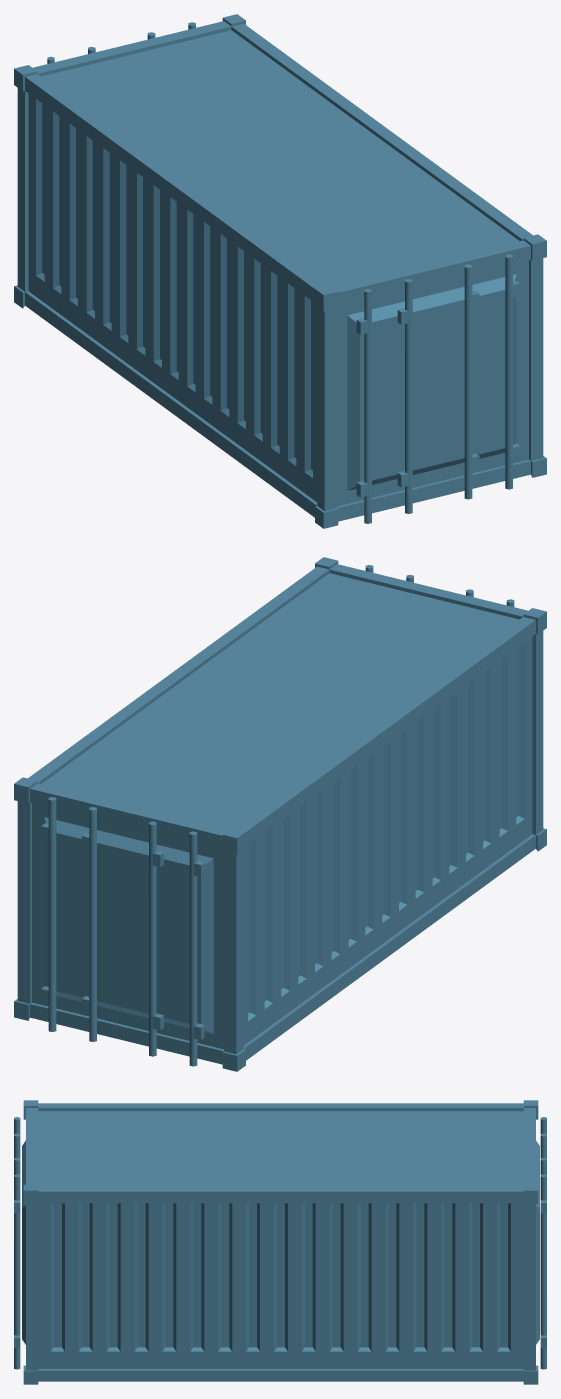
The model's file is GJ_Decor_Contener_01.fbx.
3 renders of one model, top to bottom at view 1: azimuth 30°, elevation 25°; view 2: azimuth 150°, elevation 25°; view 3: azimuth 270°, elevation 25°, orthographic. The views are drawn at different scales.
Visible parts, largest first — view 1: GJ_Decor_Contener_01; view 2: GJ_Decor_Contener_01; view 3: GJ_Decor_Contener_01.
Part boxes in pixels (box(x1,y1,x2,y2)): GJ_Decor_Contener_01: box(14, 14, 546, 528); GJ_Decor_Contener_01: box(14, 557, 546, 1071); GJ_Decor_Contener_01: box(14, 1100, 546, 1384).
Size of the model in its own units: 19.36 by 19.38 by 48.19.
